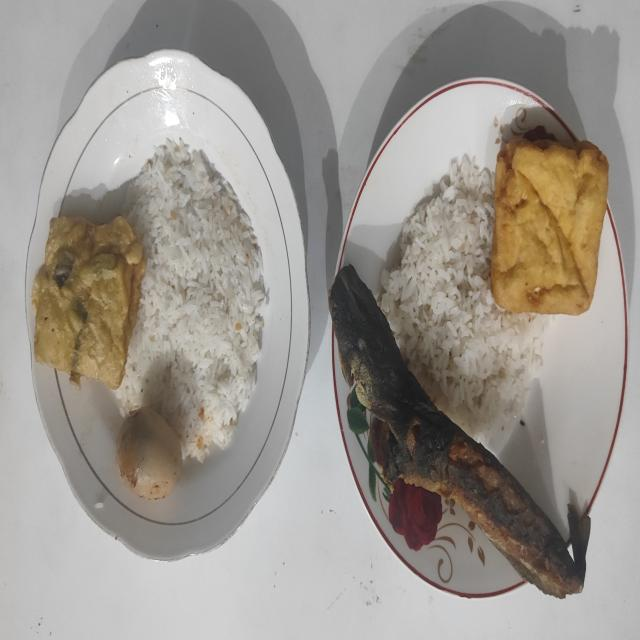nasi_putih: (116, 138, 269, 462), (376, 156, 549, 440)
tahu_goreng: (491, 139, 608, 315)
